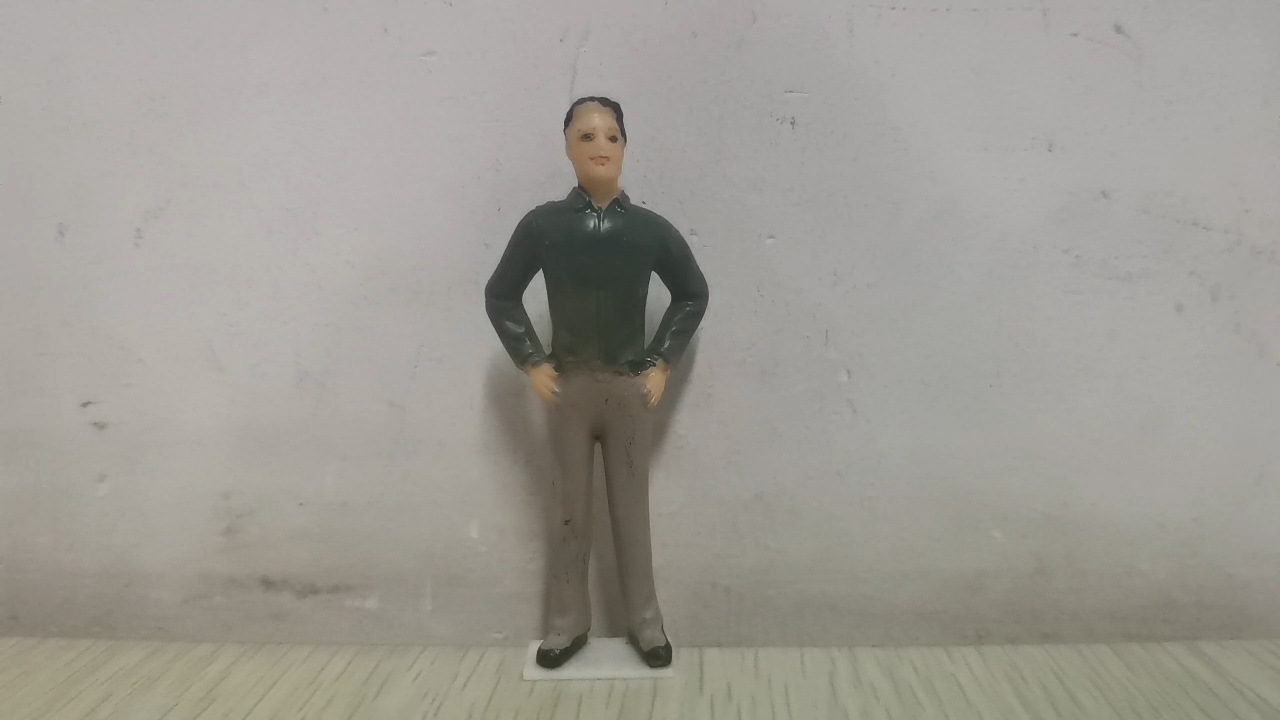person: (483, 93, 710, 669)
